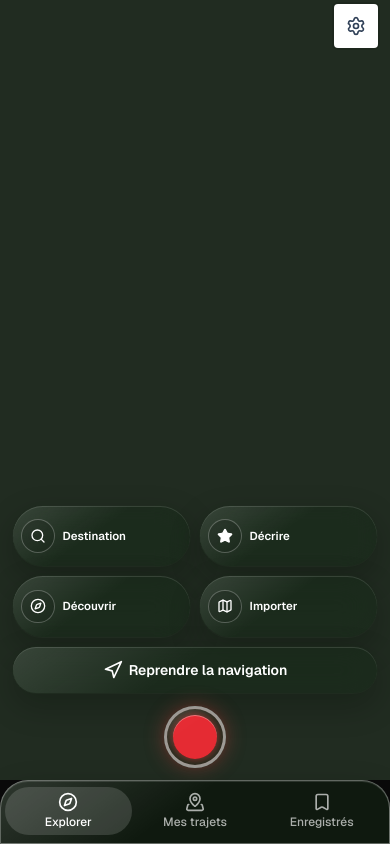
Test case: RideApp mobile shell (FR-031, FR-035) › restores mute and RAG preferences from the session (FR-035)
The width and height of the screenshot is (390, 844).
Click the button "Reprendre la navigation" at (195,670), box [12,646,378,694]
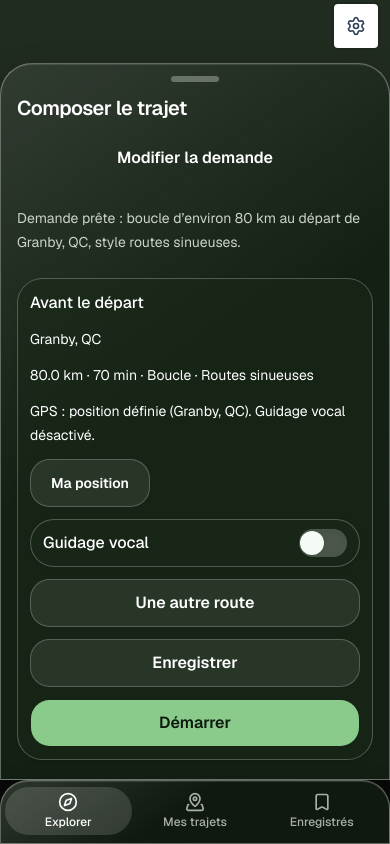
Result: the text "Guidage vocal désactivé" is shown at [30,399,360,447]
Result: the switch named "Guidage vocal" is not checked at [299,529,347,557]
Click the button "Modifier la demande" at (195,158), box [17,134,373,182]
(page scrolled)
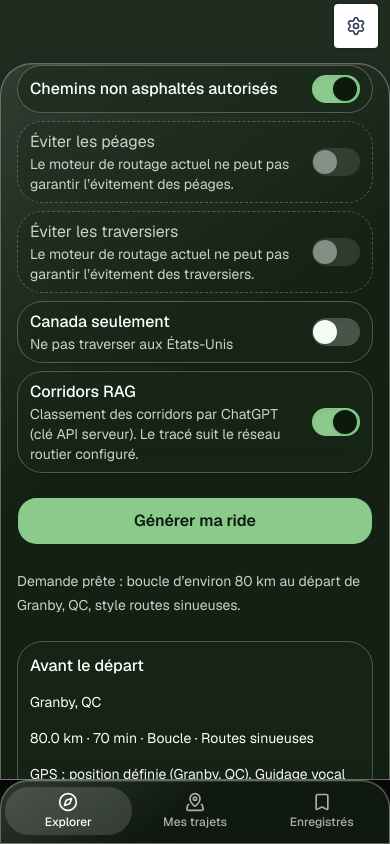
Result: the switch named "Corridors RAG" below "Corridors RAG" is checked at [312,408,360,436]
